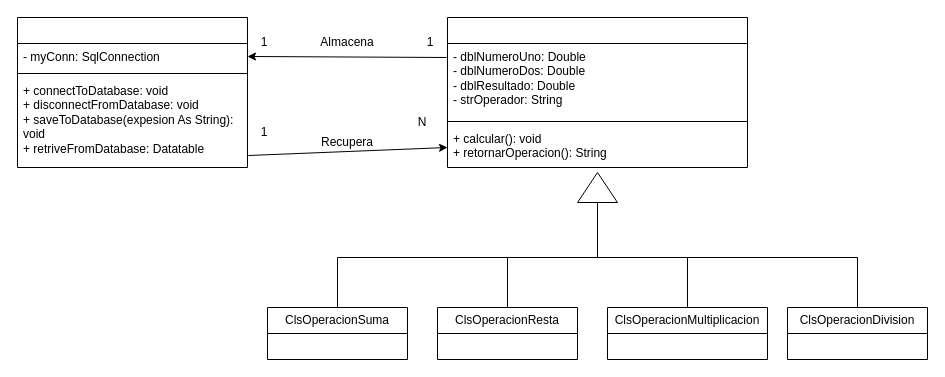
Image size: 945x377. Some labels were removed from this diagram. Each missing label, with the box of its shape:
ClsBaseDeDatos: (16, 16, 248, 168)
ClsOperacion: (446, 16, 748, 168)
